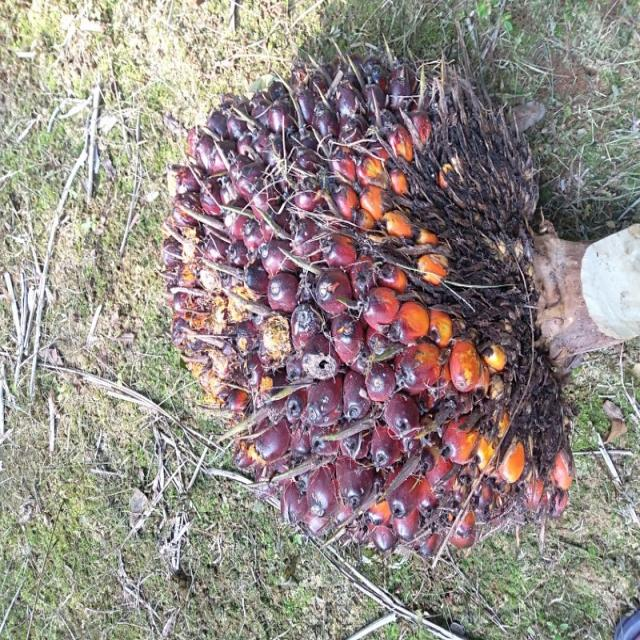fraksi 1: (162, 78, 576, 565)
